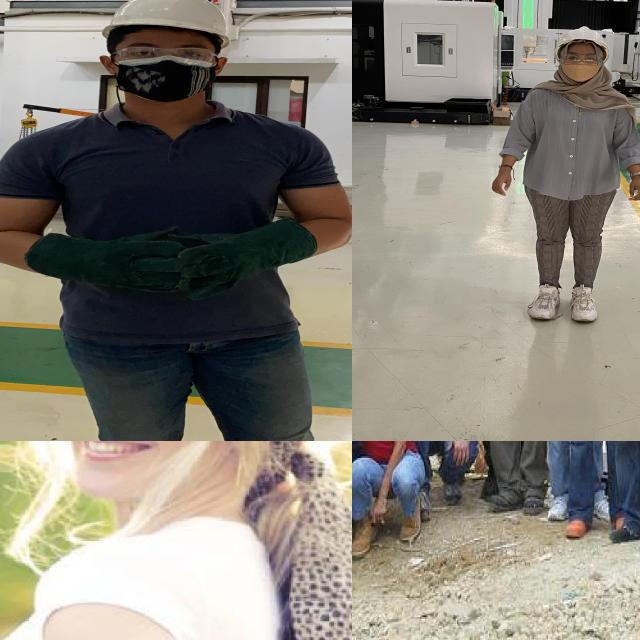face_mask: (105, 40, 224, 98), (559, 48, 602, 84)
face_nomask: (62, 441, 178, 474)
glasses: (108, 45, 220, 65), (558, 50, 603, 64)
hand_glove: (84, 228, 184, 295), (163, 229, 259, 297)
hand_noglove: (484, 169, 519, 197), (618, 173, 640, 203), (447, 441, 473, 465), (368, 498, 388, 524)
head_helmet: (98, 0, 236, 42), (555, 25, 612, 49)
person: (0, 0, 352, 441), (0, 441, 352, 640), (482, 22, 640, 331), (352, 441, 431, 556), (552, 441, 630, 546), (471, 441, 560, 522), (506, 441, 587, 524), (389, 441, 482, 512)
shoes: (523, 278, 563, 326), (565, 284, 608, 324), (352, 506, 382, 561), (394, 490, 424, 544), (590, 487, 624, 522), (486, 488, 524, 516), (437, 470, 466, 506), (562, 514, 594, 544), (608, 517, 640, 547), (546, 488, 572, 522), (518, 487, 546, 517)
